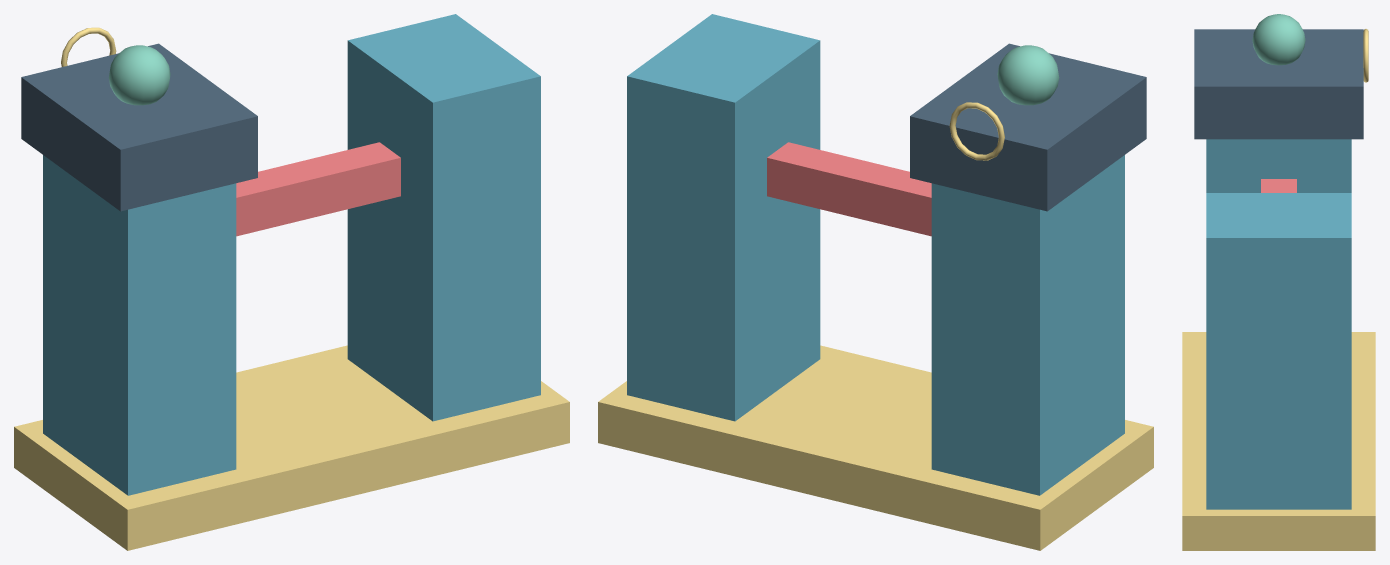
The model's file is park-ticket-gate-pixel-16bit-3d.glb.
3 views of the same model, side by side, from view 1: azimuth 30°, elevation 25°; view 2: azimuth 150°, elevation 25°; view 3: azimuth 270°, elevation 25° (orthographic). The views are drawn at different scales.
Visible parts, largest first — view 1: exit-post, entrance-post, base-trim, scanner, barrier-arm, status-light; view 2: exit-post, entrance-post, base-trim, scanner, barrier-arm, status-light, scanner-ring; view 3: exit-post, scanner, base-trim, entrance-post, status-light, barrier-arm, scanner-ring.
Boxes of the visible parts, x1,y1,x2,y2 form: exit-post: [347, 14, 540, 421]; entrance-post: [43, 155, 236, 495]; base-trim: [14, 345, 569, 550]; scanner: [21, 43, 257, 211]; barrier-arm: [236, 142, 400, 236]; status-light: [108, 45, 170, 105]; exit-post: [627, 14, 820, 421]; entrance-post: [931, 155, 1124, 495]; base-trim: [598, 345, 1153, 550]; scanner: [910, 43, 1146, 211]; barrier-arm: [767, 142, 931, 236]; status-light: [997, 45, 1059, 105]; scanner-ring: [949, 102, 1004, 160]; exit-post: [1206, 193, 1351, 509]; scanner: [1194, 29, 1363, 139]; base-trim: [1182, 332, 1375, 550]; entrance-post: [1206, 139, 1351, 192]; status-light: [1252, 14, 1305, 65]; barrier-arm: [1261, 179, 1296, 192]; scanner-ring: [1363, 29, 1368, 82].
Size of the model in its own units: 1.8 by 1.73 by 0.8.
